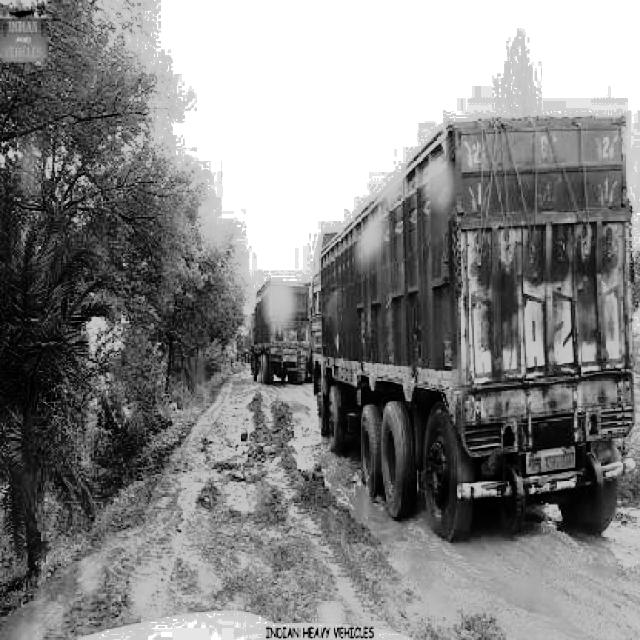HCV: (304, 226, 628, 540), (250, 258, 312, 382)
